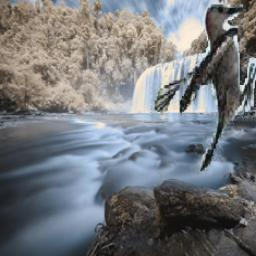Woodpecker: (150, 4, 256, 174)
